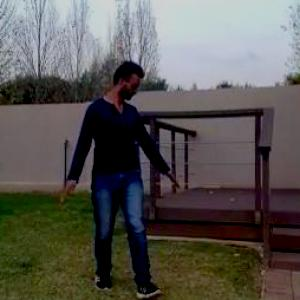land: (52, 49, 198, 298)
